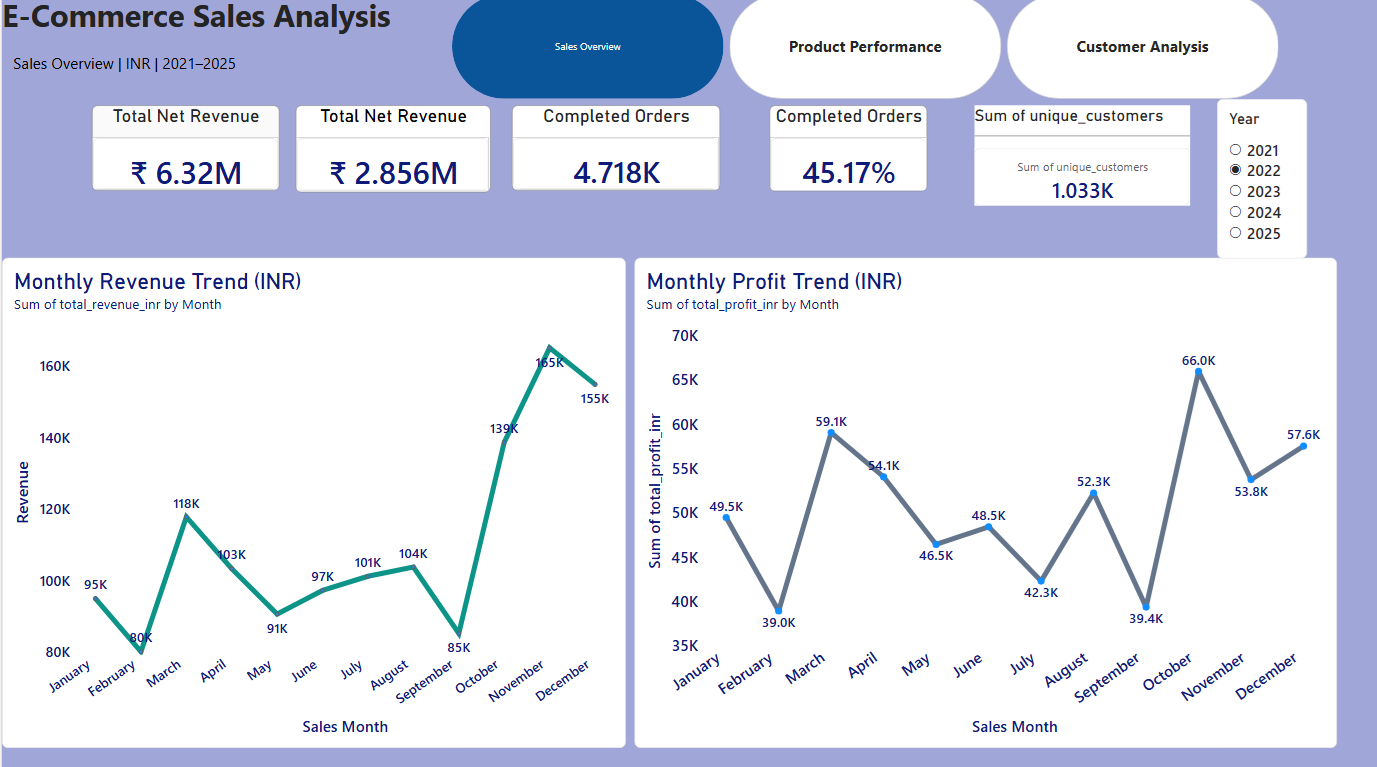

Layout of this report page (visuals, bound fields, positions):
{"tool":"powerbi","page":{"name":"Sales Overview","canvas":[1920,1080],"ordinal":0},"visuals":[{"type":"cardVisual","title":"Total Net Revenue","fields":{"Data":["Sum(analytics vw_inr_sales_kpis.total_revenue_inr)"]},"box":[125.6,154.4,261.4,119.4],"z":0},{"type":"cardVisual","title":"Total Net Revenue","fields":{"Data":["Sum(analytics vw_inr_sales_kpis.total_profit_inr)"]},"box":[409.6,154.4,271.7,121.4],"z":1000},{"type":"cardVisual","title":"Completed Orders","fields":{"Data":["Sum(analytics vw_inr_sales_kpis.completed_orders)"]},"box":[712.2,154.4,290.2,119.4],"z":2000},{"type":"cardVisual","title":"Completed Orders","fields":{"Data":["analytics vw_inr_category_performance.Profit Margin Display"]},"box":[1070.3,154.4,220,120],"z":3000},{"type":"lineChart","title":"Monthly Revenue Trend (INR)","fields":{"Category":["analytics vw_inr_monthly_sales.sales_month.Variation.Date Hierarchy.Month"],"Y":["Sum(analytics vw_inr_monthly_sales.total_revenue_inr)"]},"box":[0,368.4,870,684],"z":4000},{"type":"lineChart","title":"Monthly Profit Trend (INR)","fields":{"Category":["analytics vw_inr_monthly_sales.sales_month.Variation.Date Hierarchy.Month"],"Y":["Sum(analytics vw_inr_monthly_sales.total_profit_inr)"]},"box":[883,368.4,980,684],"z":5000},{"type":"cardVisual","title":"Sum of unique_customers","fields":{"Data":["Sum(analytics vw_inr_customer_segments.unique_customers)"]},"box":[1356.4,154.4,300.5,140],"z":6000},{"type":"textbox","box":[0,0,1862,82],"z":7000},{"type":"textbox","box":[16,82,1846,64],"z":8000},{"type":"pageNavigator","box":[627.8,0,1154.7,146.1],"z":9000},{"type":"listSlicer","fields":{"Values":["analytics vw_inr_monthly_sales.sales_month.Variation.Date Hierarchy.Year"]},"box":[1696.1,146.1,125.6,222.3],"z":10000}]}

Visuals, with their boxes in screenshot pixels (x1, y1, x2, y2), scaled from the page's 1920x1080 canvas onto the 1377x767 screenshot:
"Total Net Revenue" cardVisual: box=[90, 110, 278, 194]
"Total Net Revenue" cardVisual: box=[294, 110, 489, 196]
"Completed Orders" cardVisual: box=[511, 110, 719, 194]
"Completed Orders" cardVisual: box=[768, 110, 925, 195]
"Monthly Revenue Trend (INR)" lineChart: box=[0, 262, 624, 747]
"Monthly Profit Trend (INR)" lineChart: box=[633, 262, 1336, 747]
"Sum of unique_customers" cardVisual: box=[973, 110, 1188, 209]
textbox: box=[0, 0, 1335, 58]
textbox: box=[11, 58, 1335, 104]
pageNavigator: box=[450, 0, 1278, 104]
listSlicer - analytics vw_inr_monthly_sales.sales_month.Variation.Date Hierarchy.Year: box=[1216, 104, 1307, 262]
